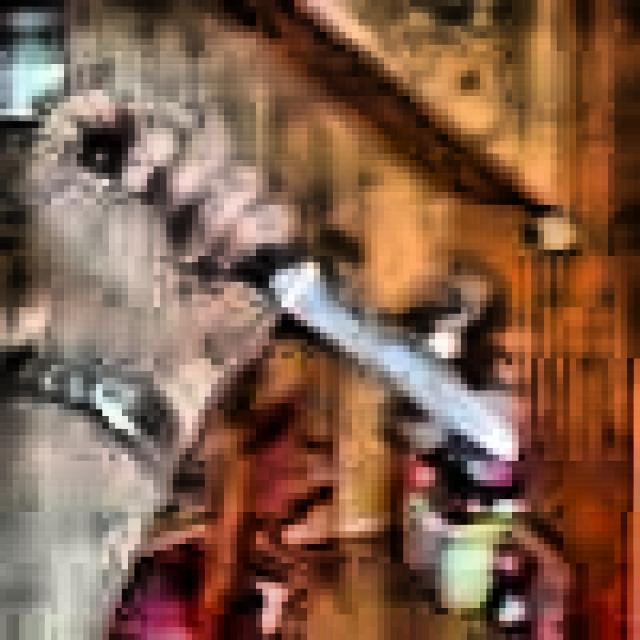knife: (87, 136, 524, 466)
